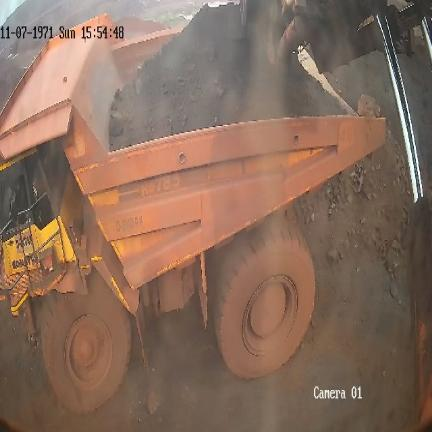pile: (111, 5, 349, 149), (310, 139, 412, 274)
